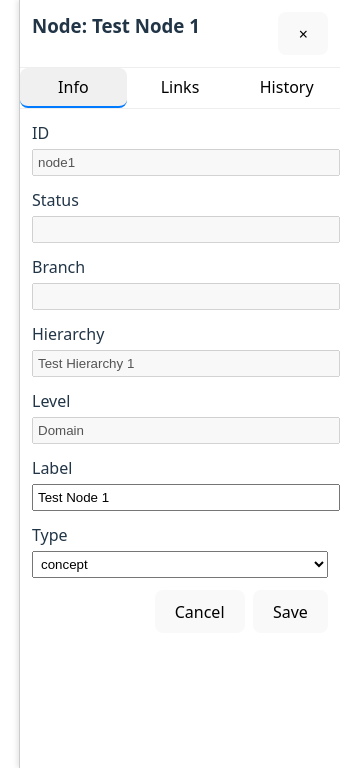
Test case: NodeDrawer › disables Save button when label is empty
// Clear the label
Step 1. Clear the 6th field showing "Test Node 1" → (186, 498), box [32,484,340,511]
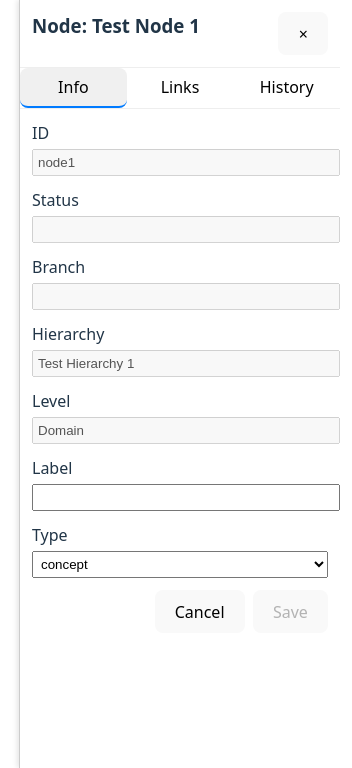
Check: the button "Save" is disabled, box [253,590,328,633]
